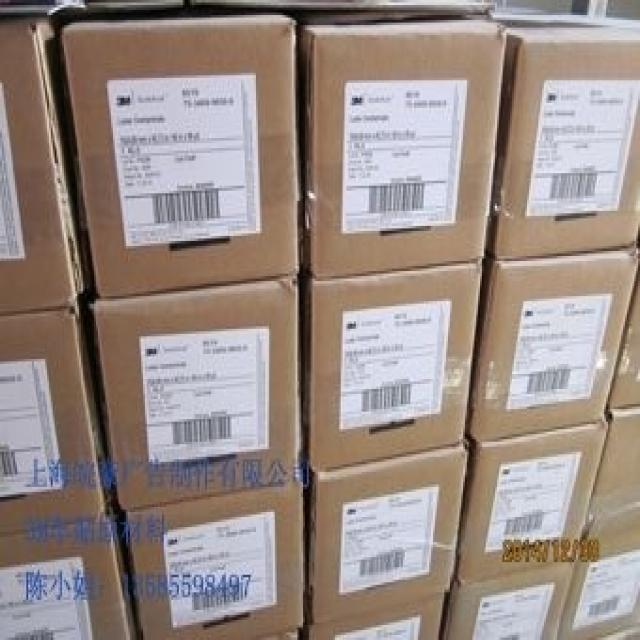box: (60, 10, 301, 296), (296, 18, 508, 276), (92, 276, 301, 512), (299, 259, 482, 472), (486, 15, 640, 259), (465, 248, 640, 444), (303, 444, 469, 625), (0, 289, 119, 540), (126, 482, 305, 640), (0, 15, 88, 314), (450, 422, 608, 587), (0, 517, 137, 640), (440, 562, 574, 640), (576, 404, 640, 565), (559, 545, 640, 640), (299, 595, 448, 640), (608, 266, 640, 409)
